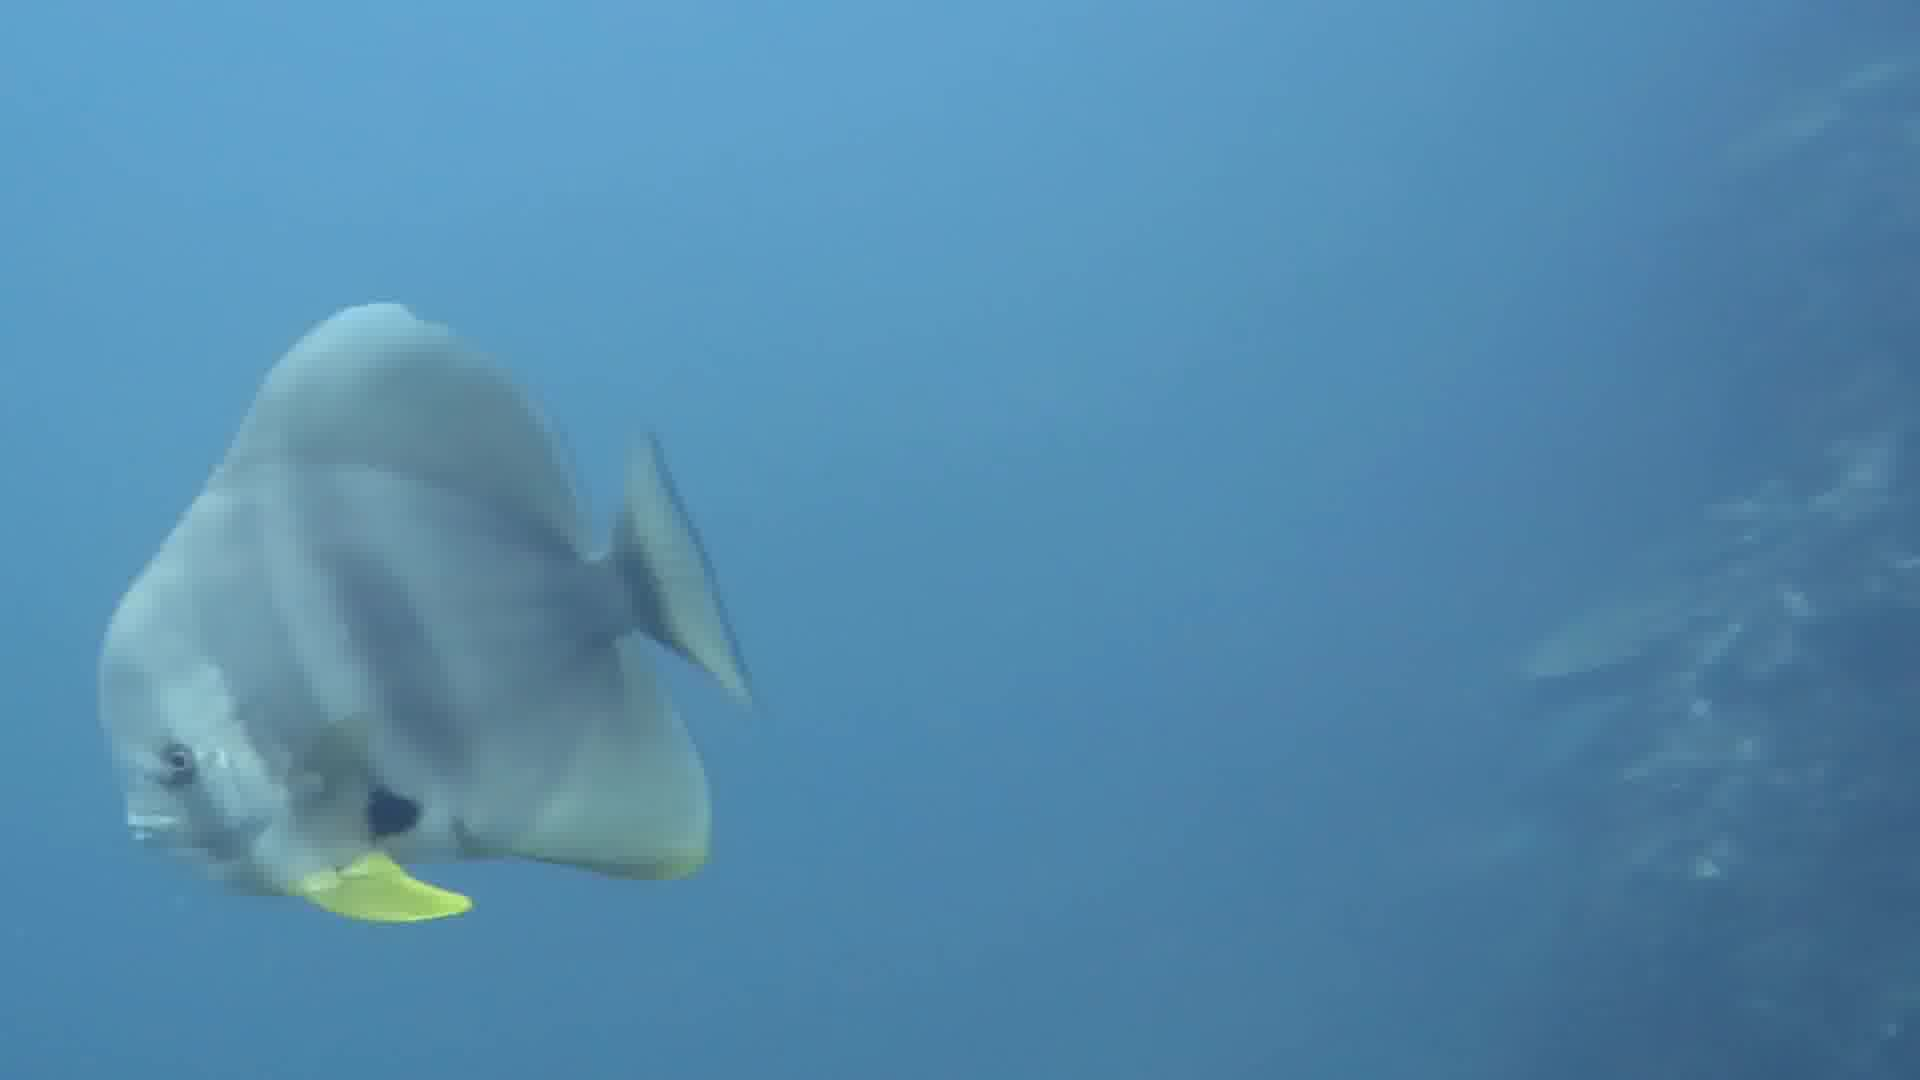Platax teira: (90, 247, 731, 957)
